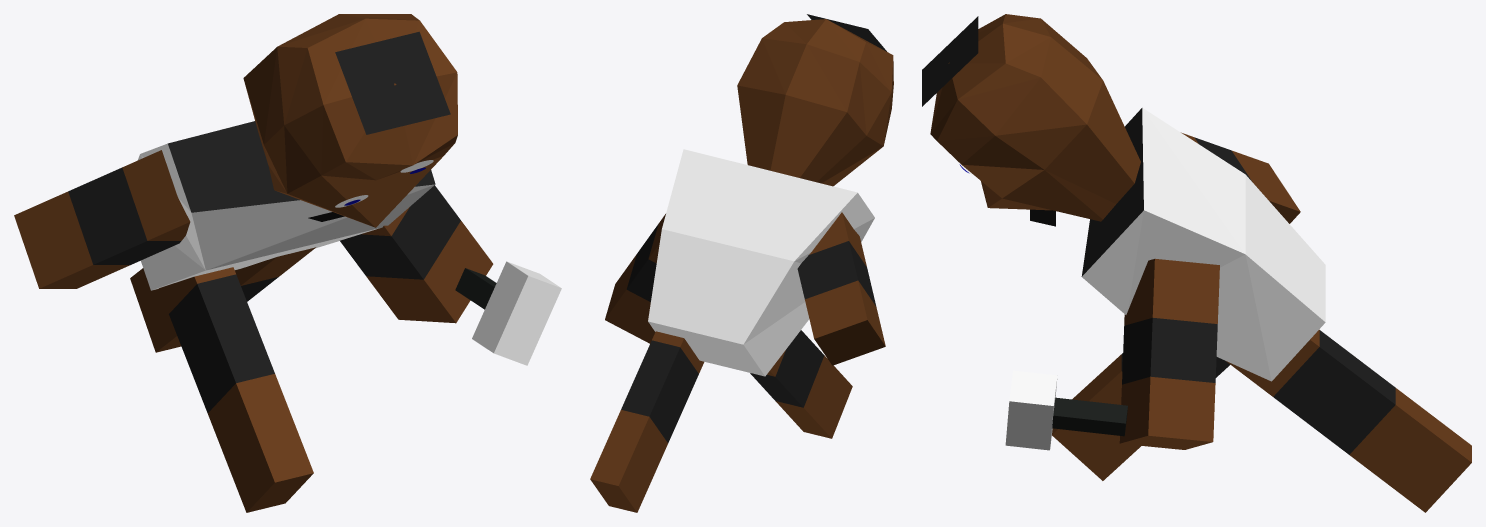
Rendered from slave3f.obj.
3 renders of one model, left to right at view 1: azimuth 30°, elevation 25°; view 2: azimuth 150°, elevation 25°; view 3: azimuth 270°, elevation 25°, orthographic. The views are drawn at different scales.
Parts seen in each view (by area): view 1: Cube, Cube.001, Cube.004, Cube.003, Cube.002, Plane.002, Cube.008, Cube.005, Cube.007; view 2: Cube.001, Cube, Cube.005, Cube.003, Cube.004, Cube.002, Plane.002; view 3: Cube.001, Cube, Cube.005, Cube.002, Cube.004, Cube.008, Cube.007, Cube.003, Plane.002.
Boxes of the visible parts, box(x1,y1,x2,y2) form: Cube: box(243, 14, 457, 227); Cube.001: box(137, 121, 435, 290); Cube.004: box(159, 267, 313, 512); Cube.003: box(14, 150, 190, 288); Cube.002: box(340, 185, 493, 323); Plane.002: box(335, 31, 450, 134); Cube.008: box(472, 261, 561, 365); Cube.005: box(130, 247, 315, 352); Cube.007: box(455, 268, 496, 309); Cube.001: box(648, 149, 874, 376); Cube: box(737, 19, 893, 186); Cube.005: box(590, 331, 704, 512); Cube.003: box(797, 212, 885, 365); Cube.004: box(750, 330, 852, 438); Cube.002: box(605, 214, 665, 343); Plane.002: box(807, 14, 886, 51); Cube.001: box(1081, 107, 1325, 381); Cube: box(930, 14, 1140, 221); Cube.005: box(1226, 329, 1471, 512); Cube.002: box(1119, 258, 1219, 449); Cube.004: box(1052, 353, 1230, 480); Cube.008: box(1005, 370, 1057, 450); Cube.007: box(1052, 397, 1127, 436); Cube.003: box(1181, 132, 1300, 223); Plane.002: box(922, 16, 978, 106).
Bounding box in the file's own units: 3.66 × 4.4 × 4.68.
